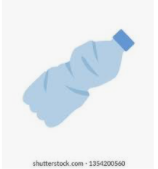Bottle: (23, 30, 136, 127)
